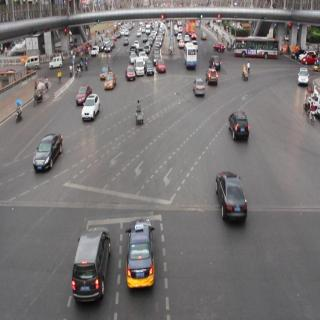BigCar: (234, 31, 282, 66), (183, 40, 201, 72), (185, 16, 198, 37)
Car: (204, 150, 253, 233), (70, 224, 114, 302), (116, 219, 163, 290), (33, 122, 66, 176), (226, 110, 250, 146), (192, 67, 210, 101), (84, 89, 101, 124), (202, 54, 220, 86), (103, 74, 119, 98), (154, 52, 169, 75), (72, 85, 90, 104), (89, 47, 106, 67), (134, 55, 146, 80), (97, 64, 113, 81), (209, 47, 220, 70), (215, 35, 227, 55), (144, 55, 154, 78), (127, 62, 136, 82)
